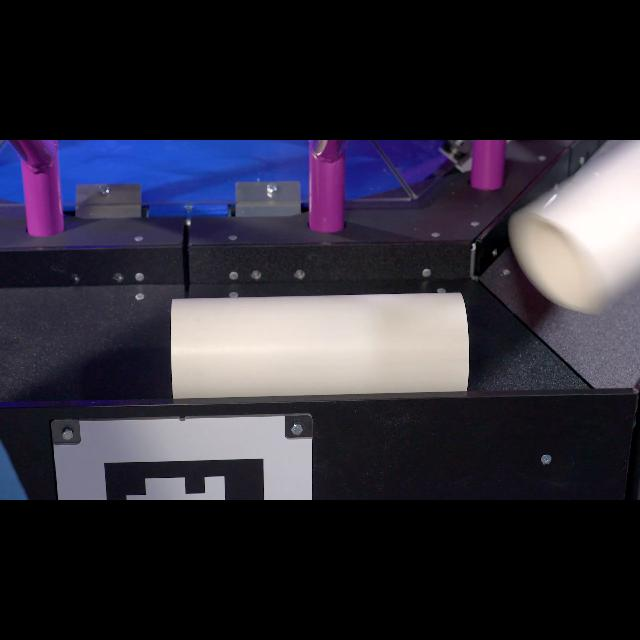CORAL: (170, 291, 470, 399), (507, 141, 639, 315)
